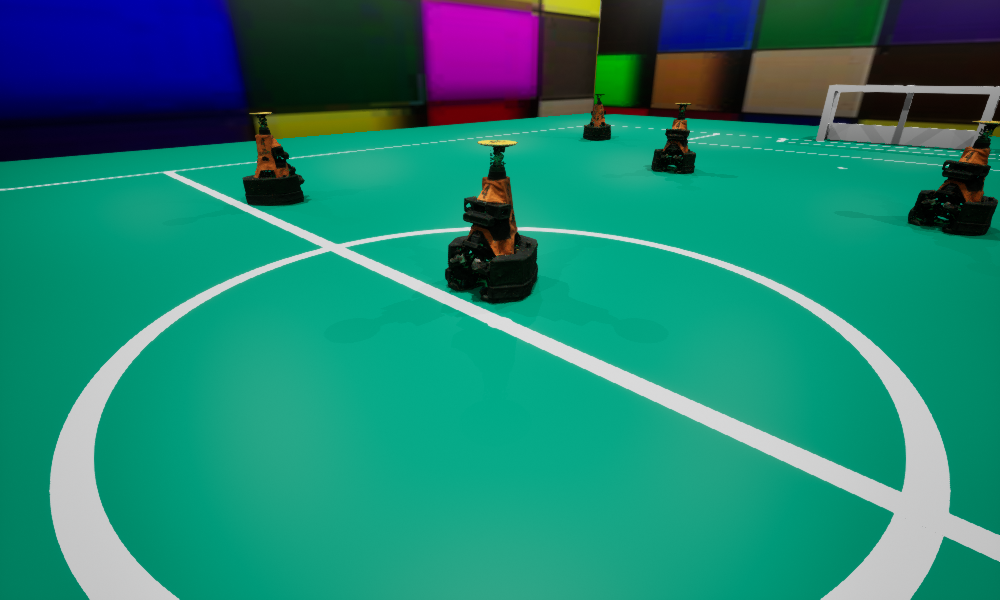0 orange robot TechUnited: (445, 140, 537, 302), (908, 121, 999, 235), (242, 112, 304, 205), (651, 103, 695, 172), (583, 94, 610, 140)
